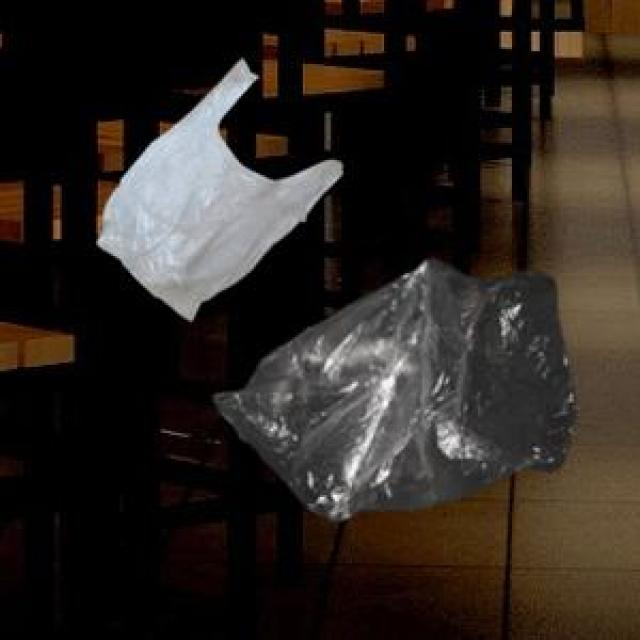plastic: (87, 51, 580, 530)
